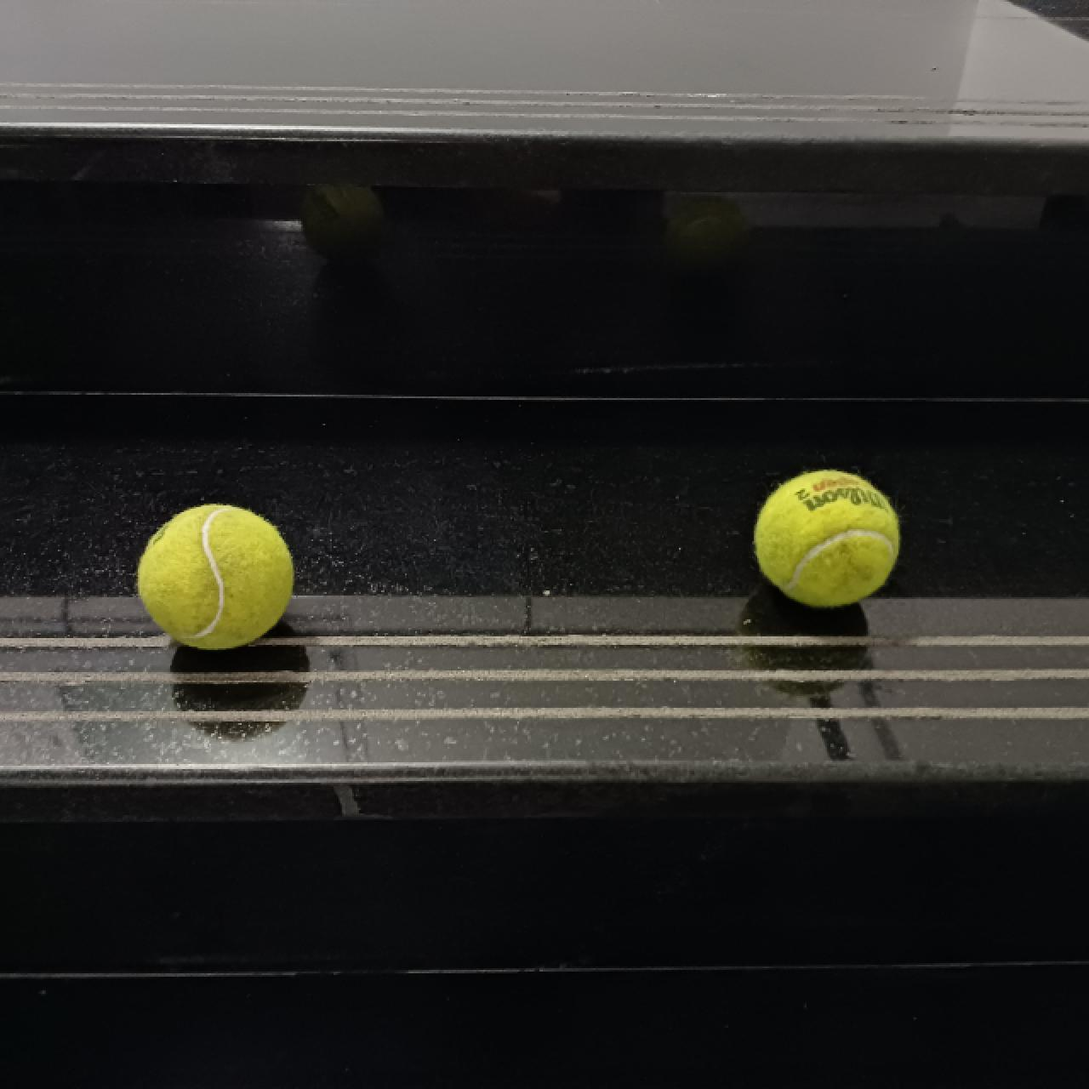tennis-ball: (137, 503, 292, 650), (752, 467, 899, 609)
